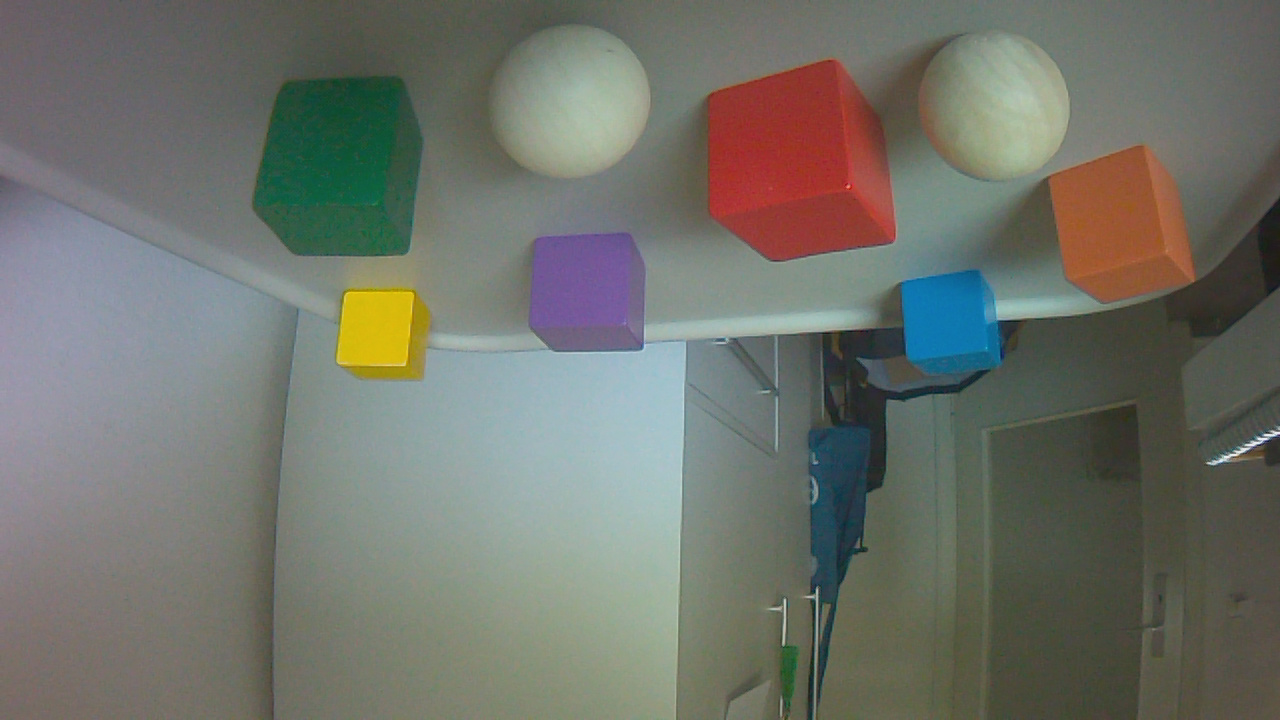ball: (488, 24, 657, 187), (920, 31, 1078, 190)
cube_blue: (902, 272, 1009, 388)
cube_green: (254, 76, 429, 265)
cube_orange: (1050, 147, 1205, 312)
cube_purple: (530, 234, 655, 360)
cube_red: (707, 62, 904, 272)
cube_yellow: (337, 292, 440, 391)
